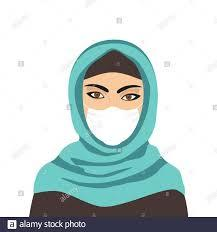Wearing Mask: (51, 14, 173, 168)
